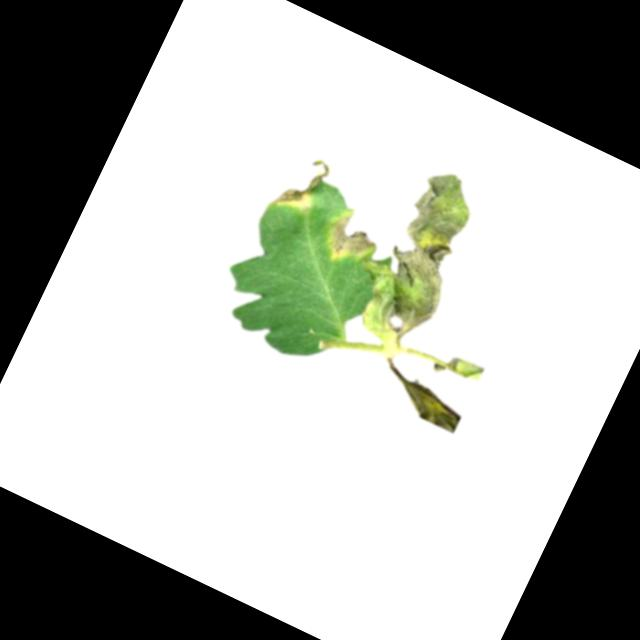Late_blight: (339, 156, 495, 357), (271, 146, 334, 221), (319, 206, 381, 272)
